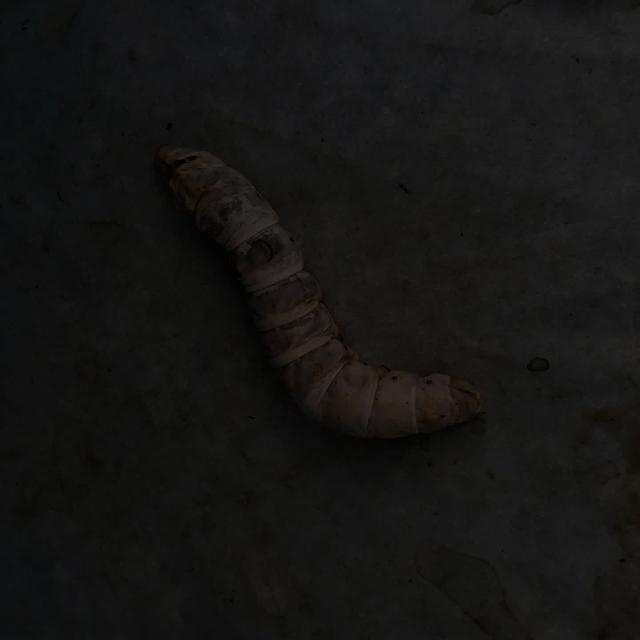Grasserie: (149, 135, 488, 461)
